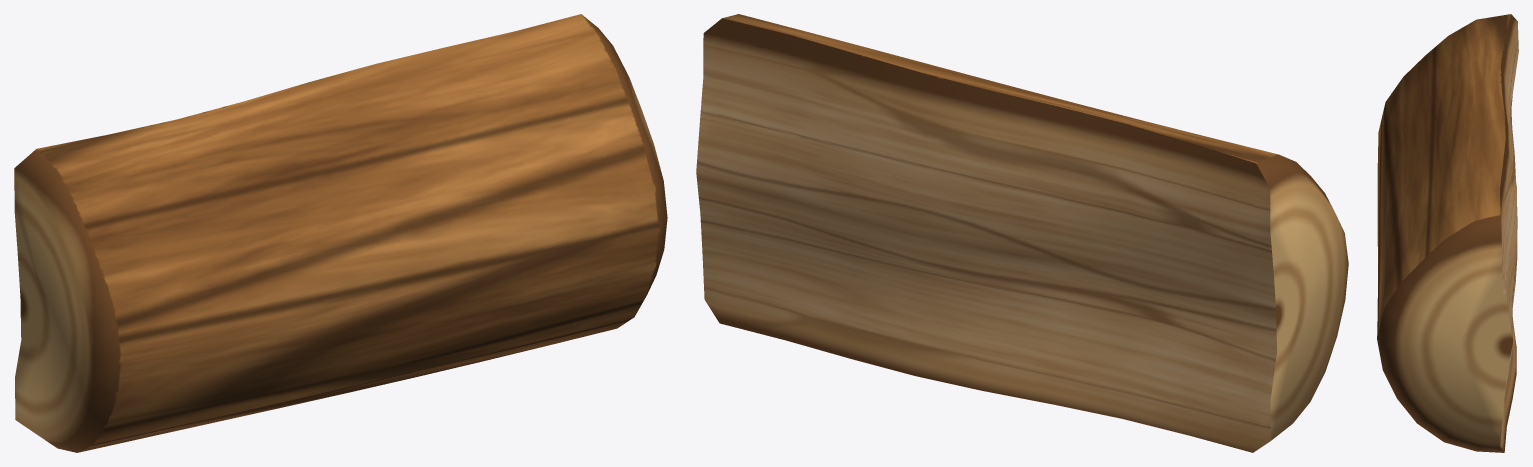
The model's file is log_half_a.glb.
The picture shows the model from 3 angles, left to right: view 1: azimuth 30°, elevation 25°; view 2: azimuth 150°, elevation 25°; view 3: azimuth 270°, elevation 25°; orthographic projection. The views are drawn at different scales.
Parts seen in each view (by area): view 1: log_half_a; view 2: log_half_a; view 3: log_half_a.
Part boxes in pixels (<box>): log_half_a: <box>14,14,667,452</box>; log_half_a: <box>696,14,1348,452</box>; log_half_a: <box>1377,14,1518,452</box>.
Bounding box in the file's own units: 0.45 × 0.2262 × 0.122.
Materials: 1 (1 with a texture image).
